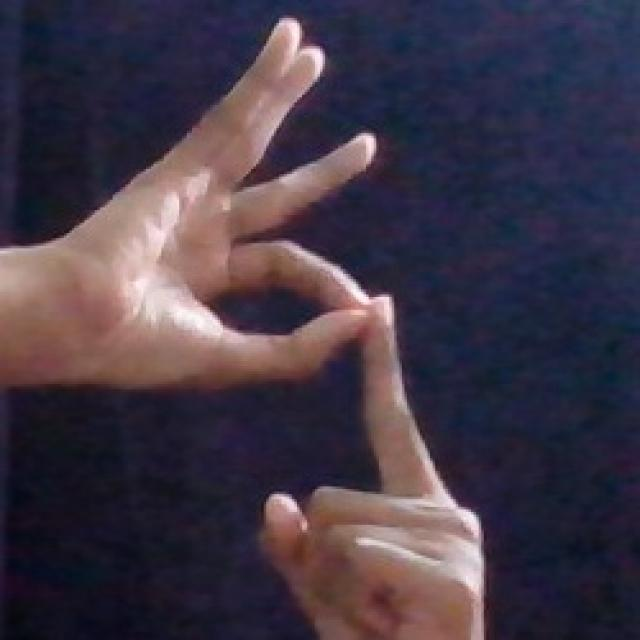Alphabet-P: (41, 21, 498, 637)
